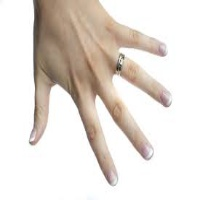ring: (118, 49, 176, 108)
